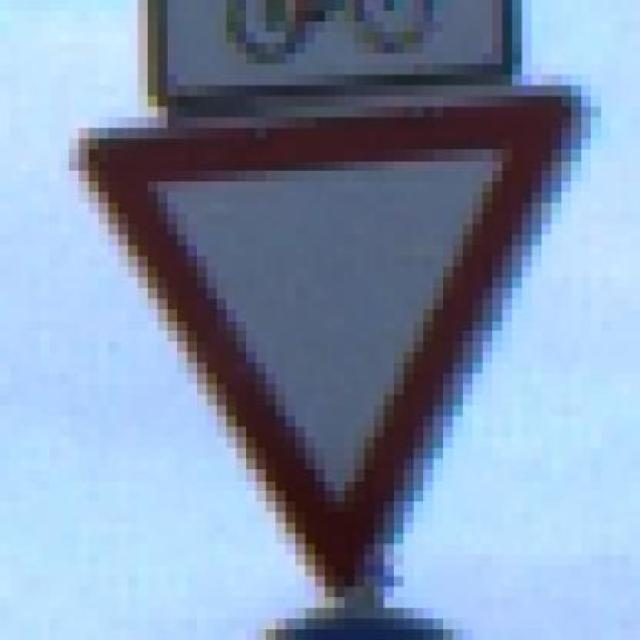Give Way: (29, 64, 620, 630)
